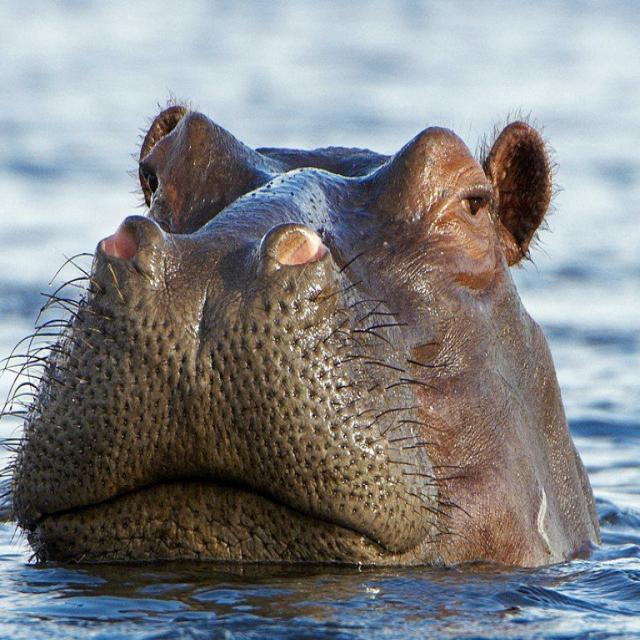hippopotamus: (12, 106, 599, 565)
